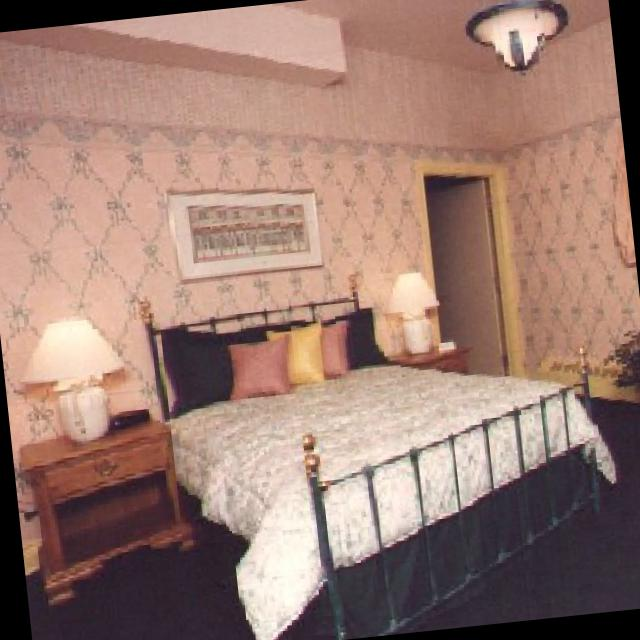bed: (309, 385, 600, 638)
bed -occluded-: (145, 273, 619, 640)
ceiling lamps: (470, 0, 572, 64)
door bars: (419, 159, 526, 369)
lamp crop: (24, 316, 128, 430), (387, 266, 444, 348)
night stand cabinet: (19, 418, 190, 599), (389, 340, 467, 367)
painting crop: (168, 187, 327, 277)
pillow occluded: (163, 324, 266, 413), (268, 315, 326, 377), (232, 333, 292, 387), (298, 317, 348, 373), (354, 310, 378, 362)
pillows: (173, 304, 379, 408)
plant -x: (603, 322, 640, 392)
quilt: (179, 355, 618, 640)
